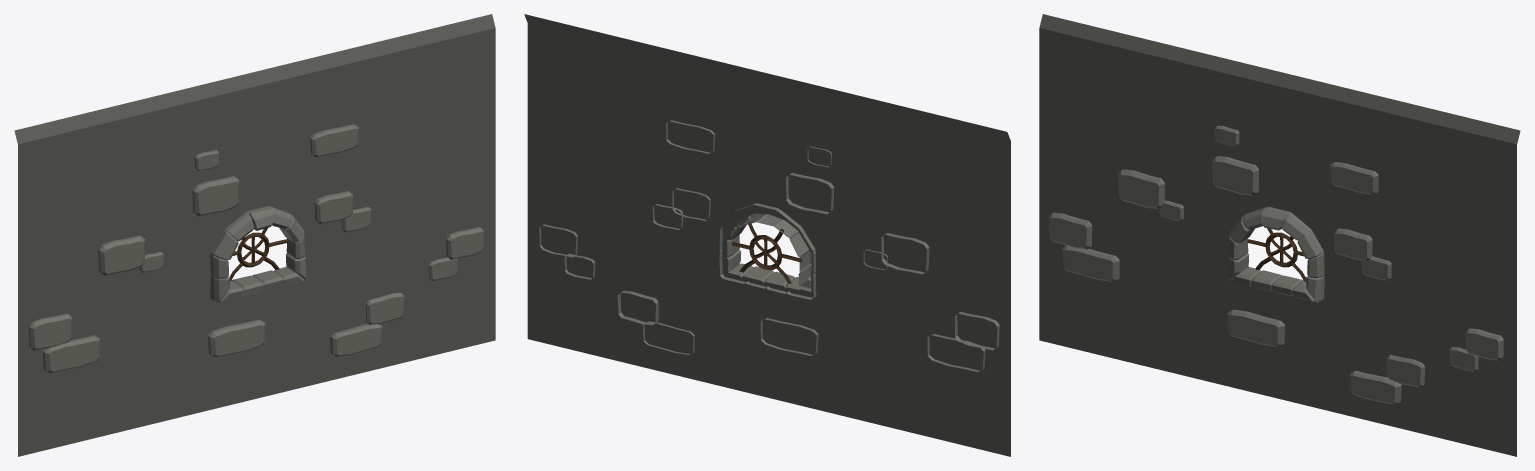
The model's file is Dungeon_Big_Window.glb.
The picture shows the model from 3 angles, left to right: view 1: azimuth 30°, elevation 25°; view 2: azimuth 150°, elevation 25°; view 3: azimuth 330°, elevation 25°; orthographic projection.
Visible parts, largest first — view 1: Dungeon_Big_Window.001; view 2: Dungeon_Big_Window.001; view 3: Dungeon_Big_Window.001.
Part boxes in pixels (bbox=[...]): Dungeon_Big_Window.001: bbox=[14, 14, 495, 456]; Dungeon_Big_Window.001: bbox=[524, 14, 1010, 456]; Dungeon_Big_Window.001: bbox=[1039, 14, 1520, 456].
Size of the model in its own units: 8 by 5.18 by 0.3951.
Materials: 2 (2 with a texture image).
